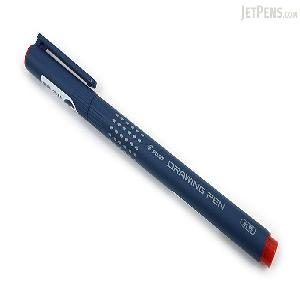pen: (20, 32, 281, 272)
